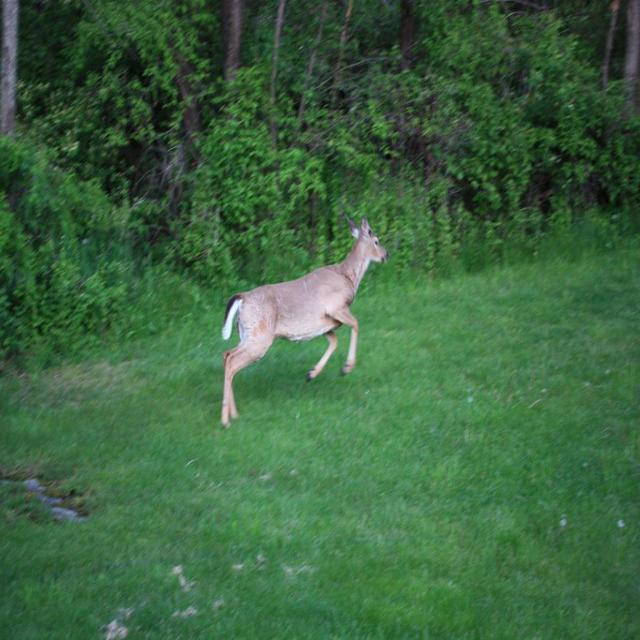Deer: (221, 218, 390, 424)
